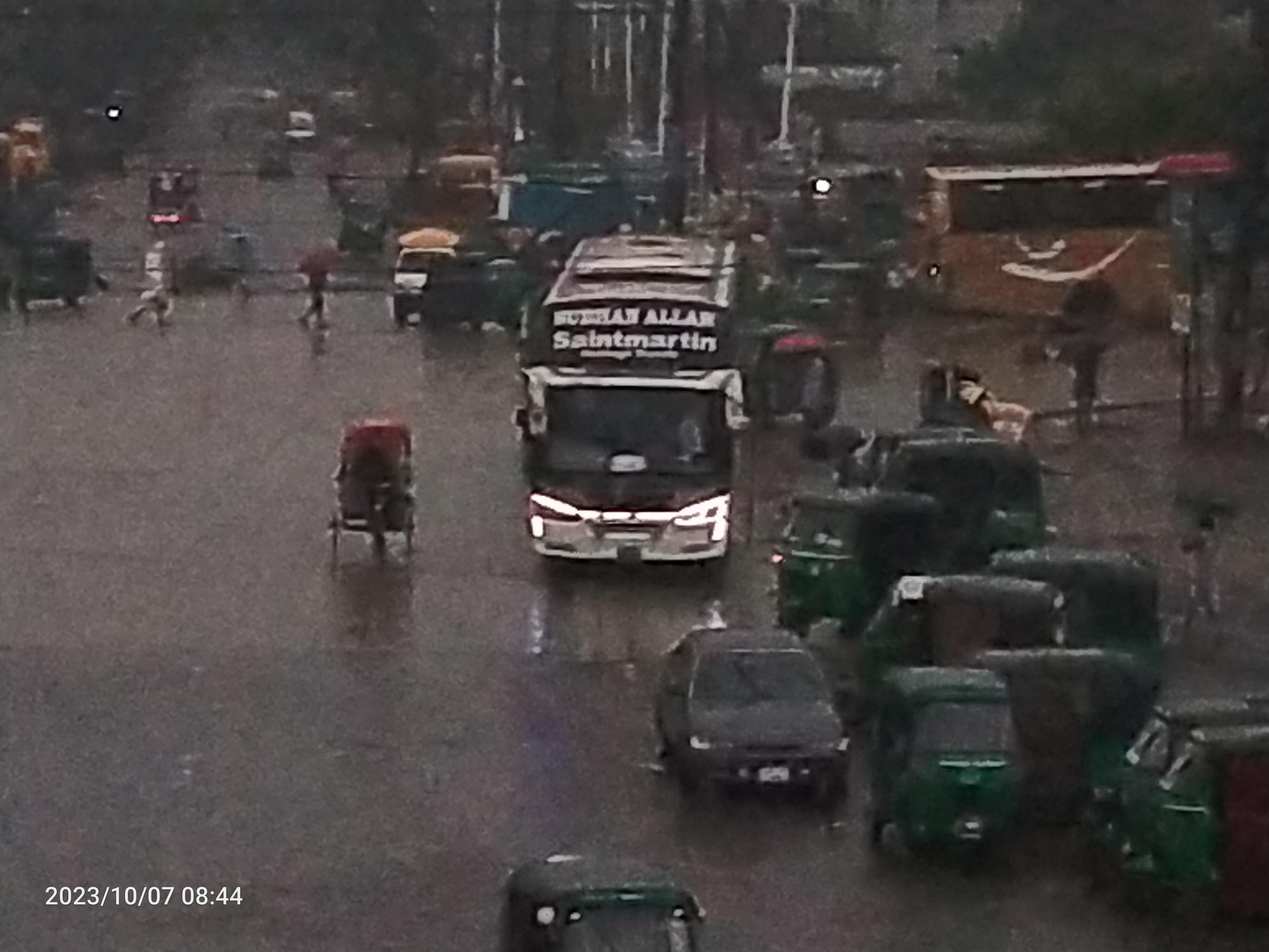Bus: (508, 196, 765, 618), (867, 127, 1269, 366)
Car: (613, 586, 882, 807), (284, 399, 455, 606)
